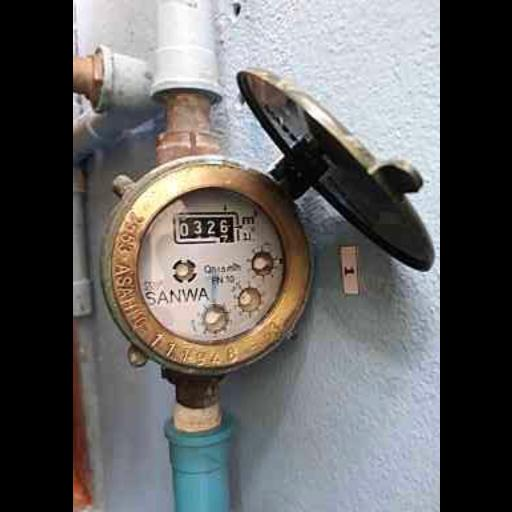0: (177, 218, 189, 239)
2: (203, 218, 217, 239)
3: (190, 217, 203, 239)
6: (217, 218, 233, 243)
border_water_meter_number: (172, 212, 238, 244)
